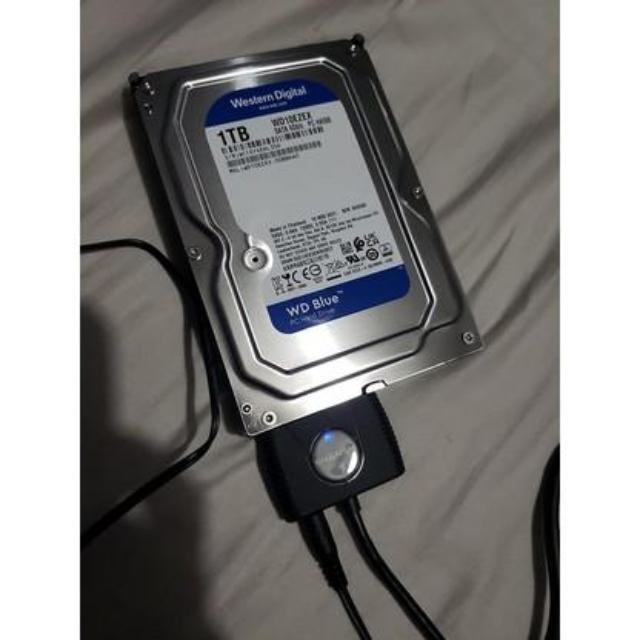DISK: (125, 39, 477, 441)
